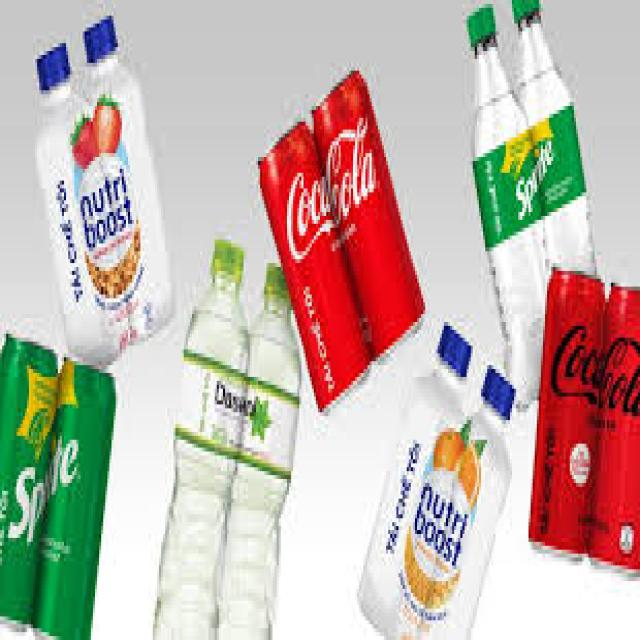cocacola: (256, 119, 376, 416)
